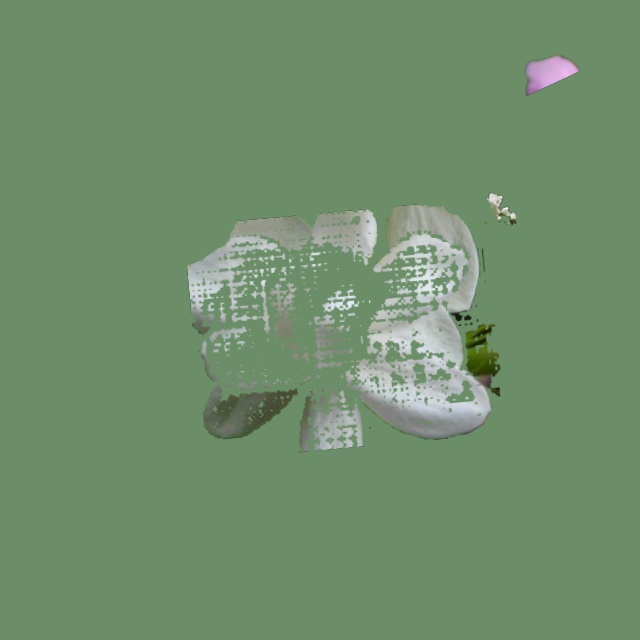foxglove: (525, 55, 579, 95)
jasmine: (187, 204, 499, 451), (487, 192, 515, 224)
